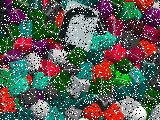Right: (57, 0, 100, 52)
